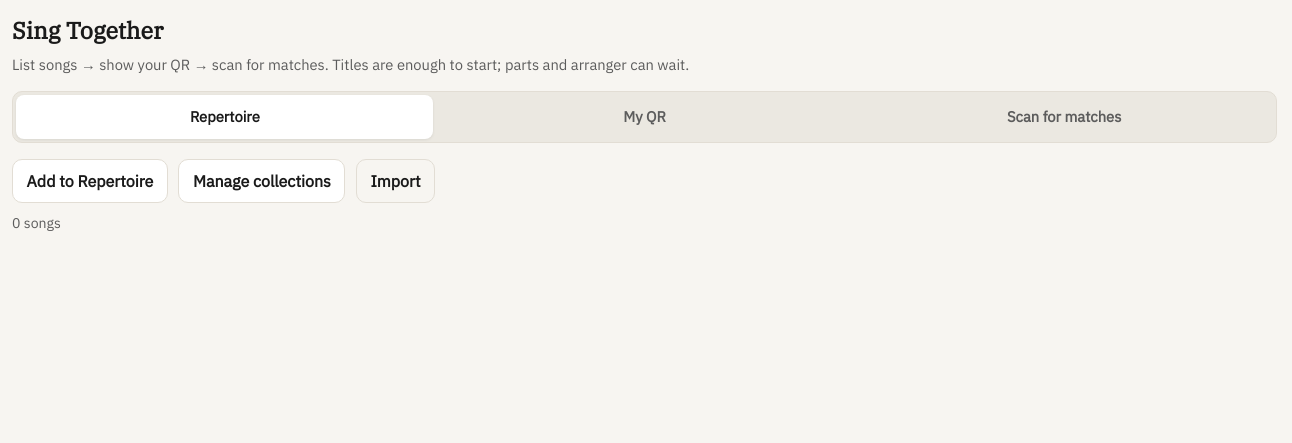
Test: SingTogetherView usability phases › keeps seven ghost chip slots stable while advancing Quick Add
The image size is (1292, 443).
Click the button "Add to Repertoire". click: (90, 181)
box: [12,159,168,203]
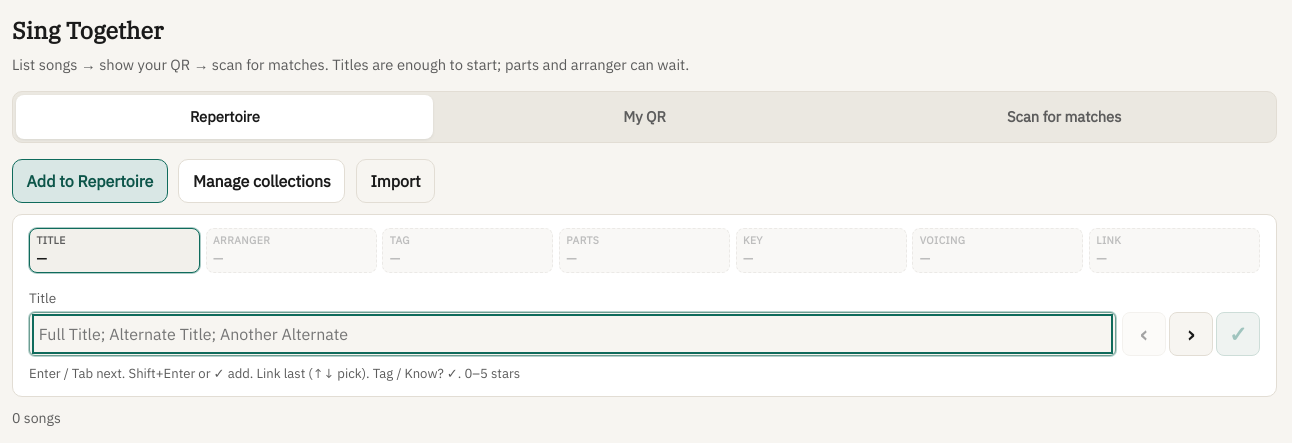
Expected: the element named "Quick add song" is shown, [29,228,1260,383]
Expected: the number of list items is 7
Type "Ghost Song" into the field with placeholder "Full Title; Alternate Title; Another Alternate". click: (573, 334)
box: [36,318,1109,350]
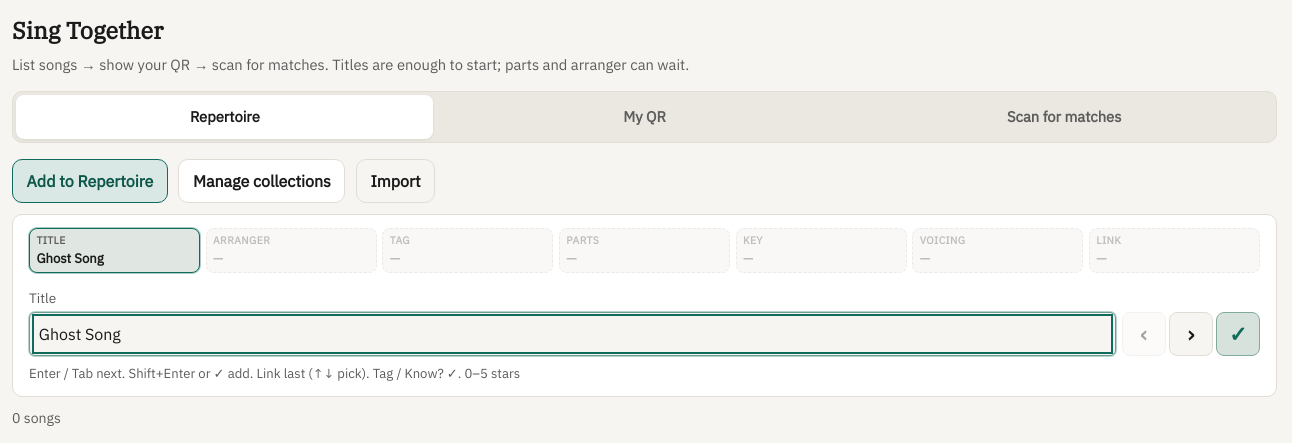
Expected: the number of list items is 7
Click the button named "Next field". click: (1191, 334)
box: [1169,312,1213,356]
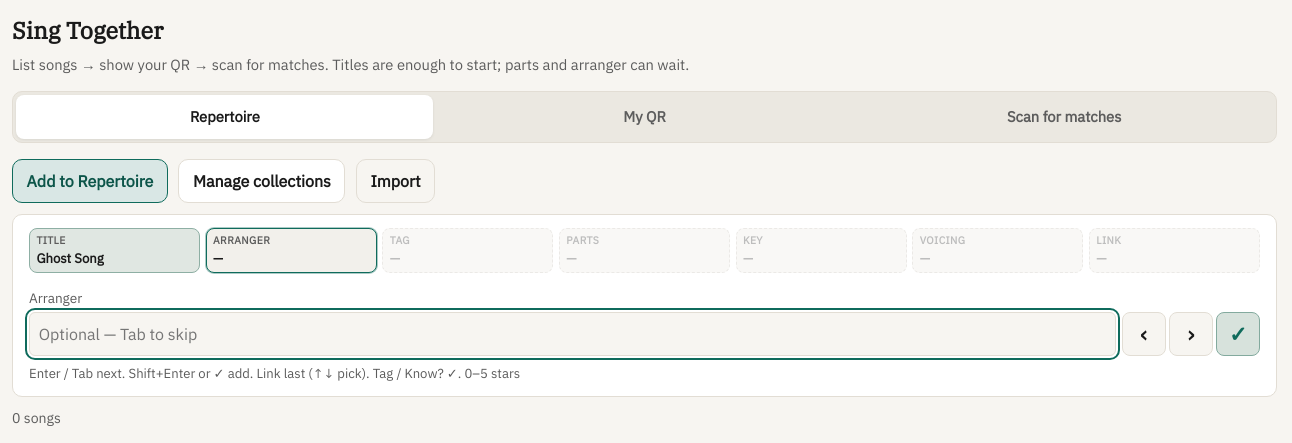
Expected: the number of list items is 7
Expected: the list item "Title Ghost Song" is enabled, [29,228,200,273]
Expected: the list item "Arranger —" is enabled, [206,228,377,273]
